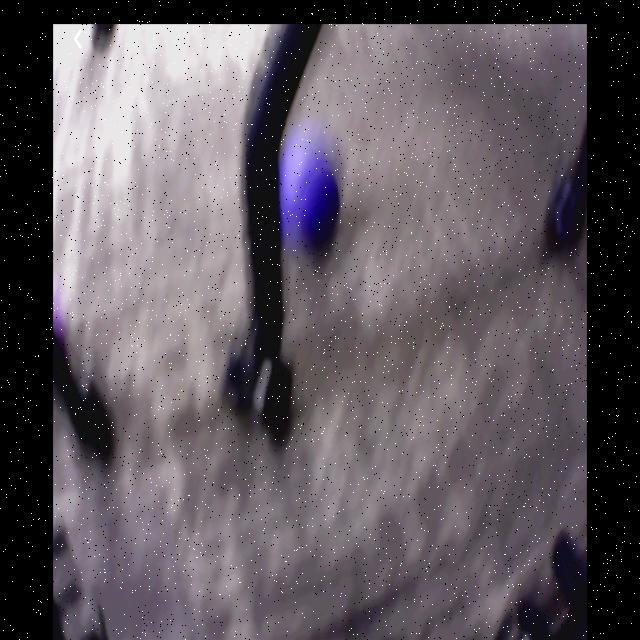ball: (280, 132, 341, 248)
